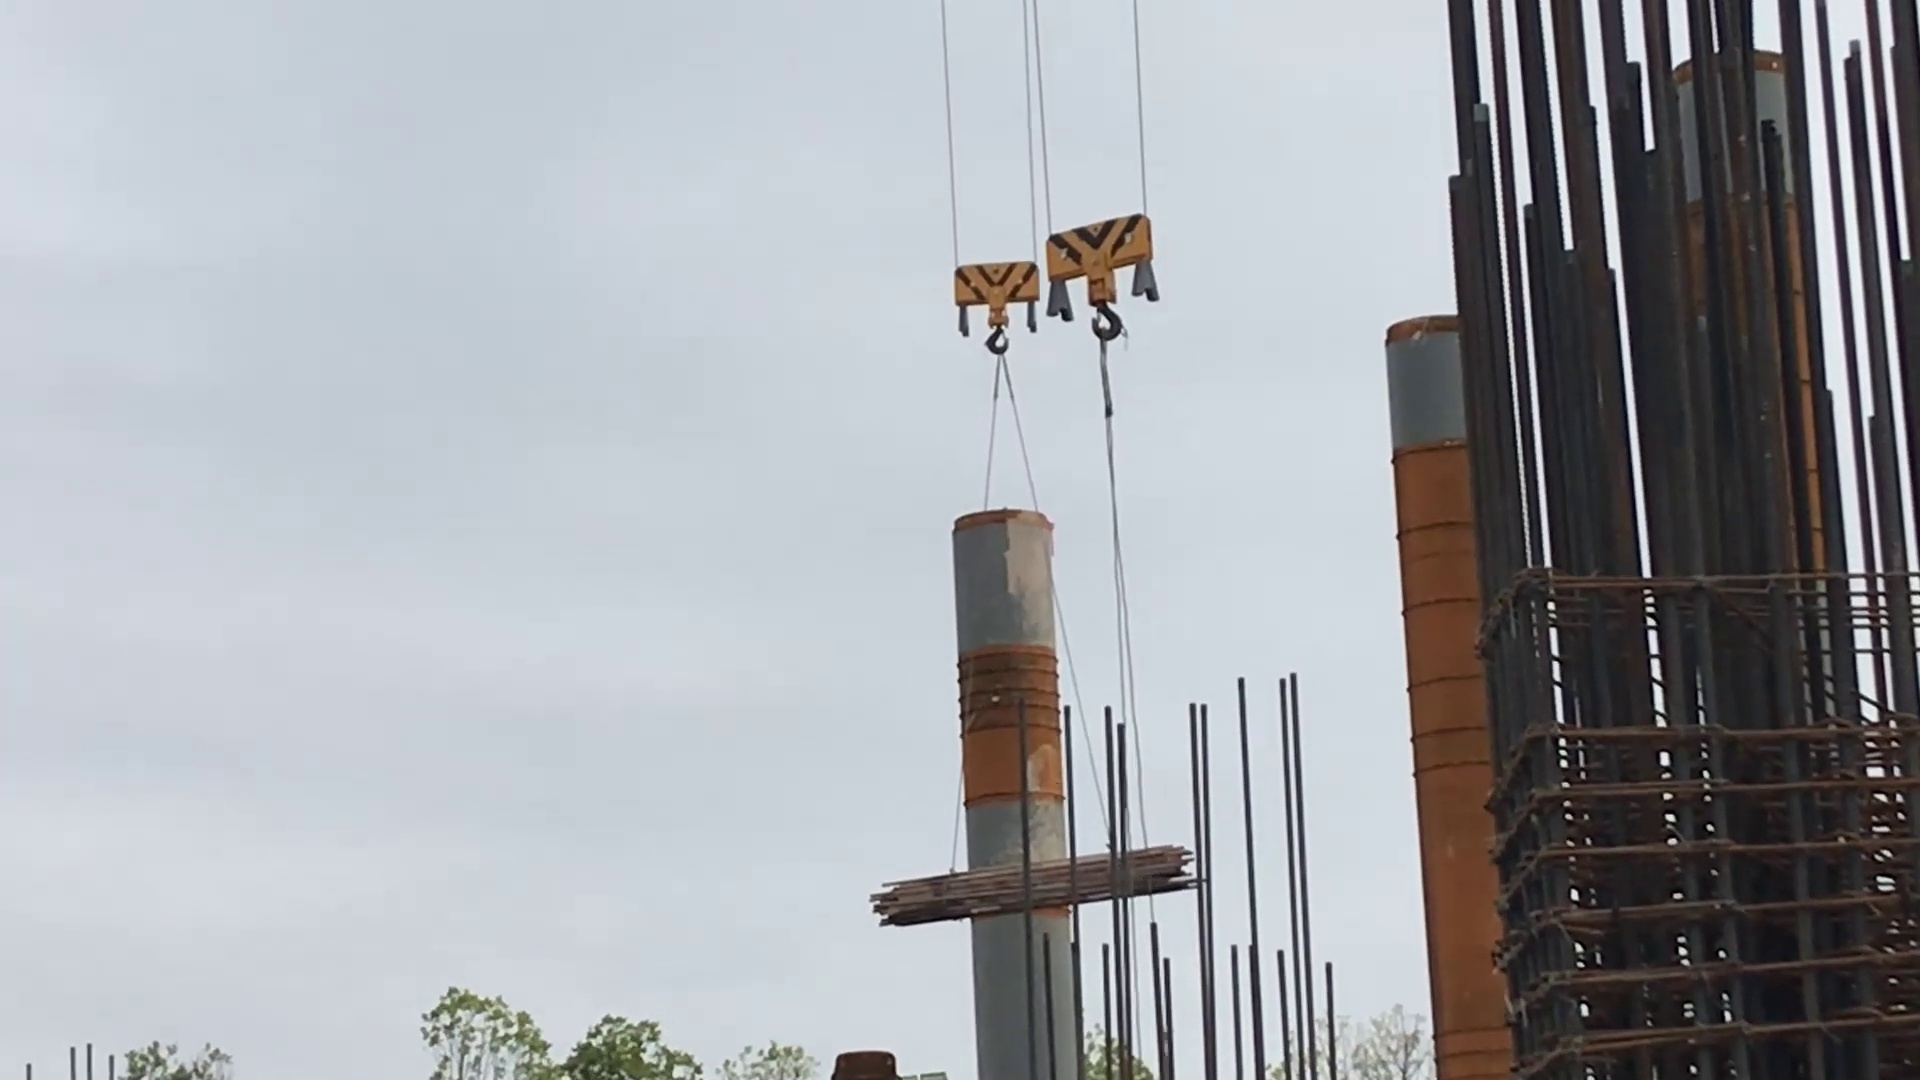hook: (1043, 208, 1160, 344), (951, 257, 1042, 359)
